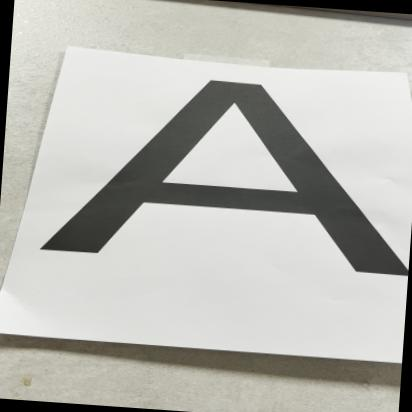seat: (7, 53, 412, 326), (44, 60, 412, 318)
